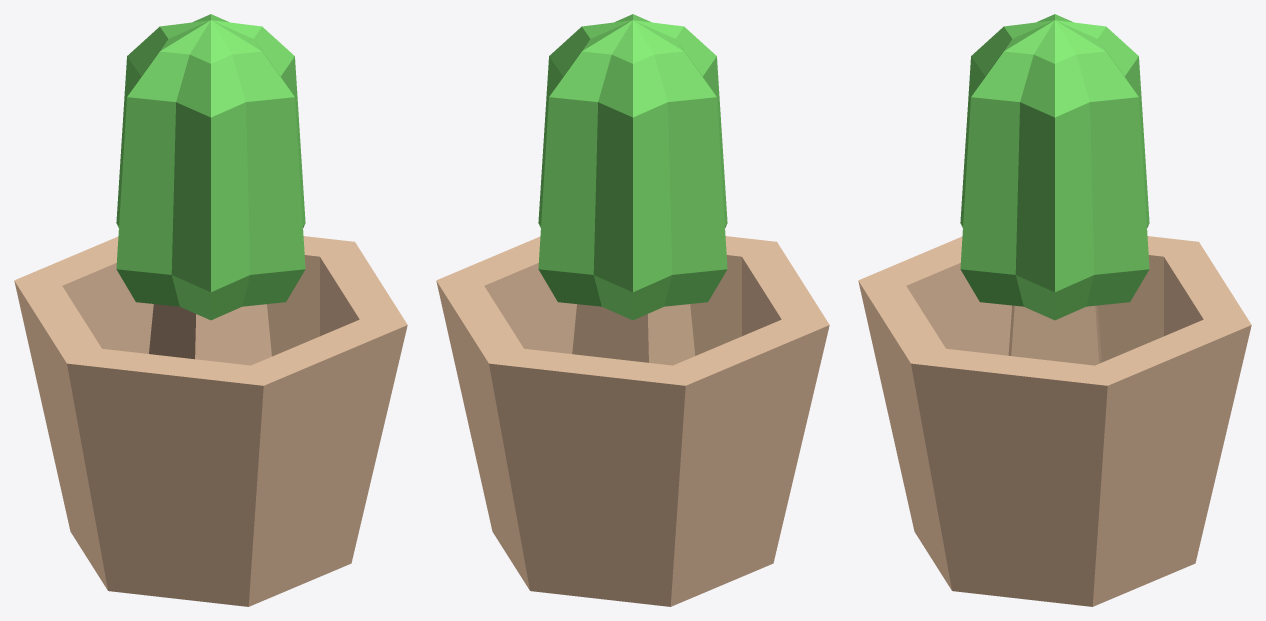
File: plant_small_b.glb
3 views of the same model, side by side, from view 1: azimuth 30°, elevation 25°; view 2: azimuth 150°, elevation 25°; view 3: azimuth 270°, elevation 25° (orthographic).
Parts seen in each view (by area): view 1: plantSmall2(Clone); view 2: plantSmall2(Clone); view 3: plantSmall2(Clone).
Part boxes in pixels (left/top/right/bottom): plantSmall2(Clone): left=14, top=14, right=407, bottom=606; plantSmall2(Clone): left=436, top=14, right=829, bottom=606; plantSmall2(Clone): left=858, top=14, right=1251, bottom=606.
Bounding box in the file's own units: 0.2083 × 0.308 × 0.2083.
